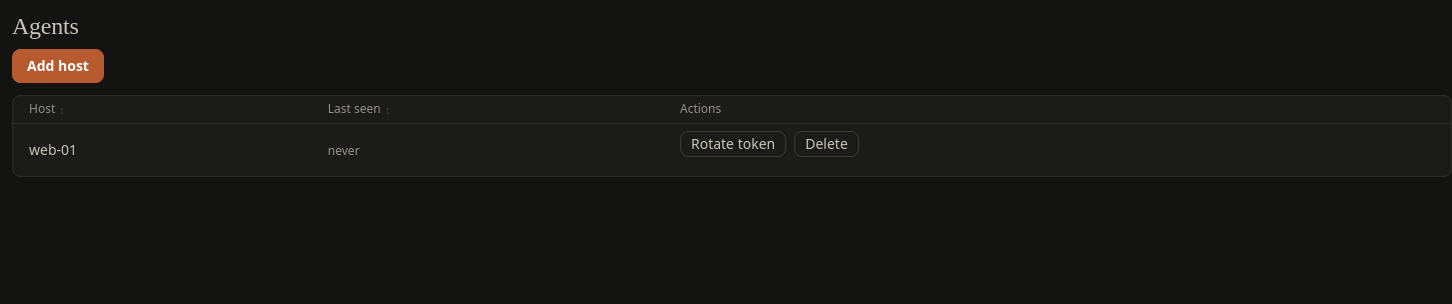
Test: HostAdminPage › requires a second click to delete, and never deletes on the first
Click the button "Delete" at (826,144), box [794,131,859,157]
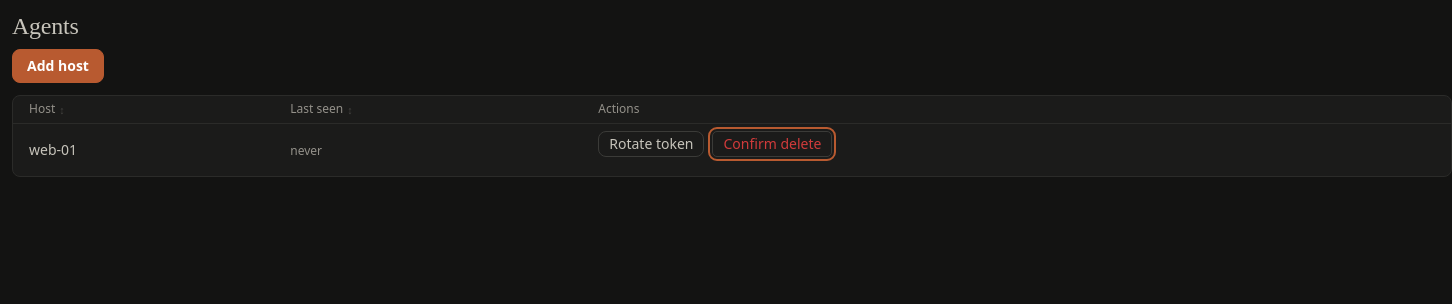
Click the button "Confirm delete" at (772,144), box [712,131,832,157]
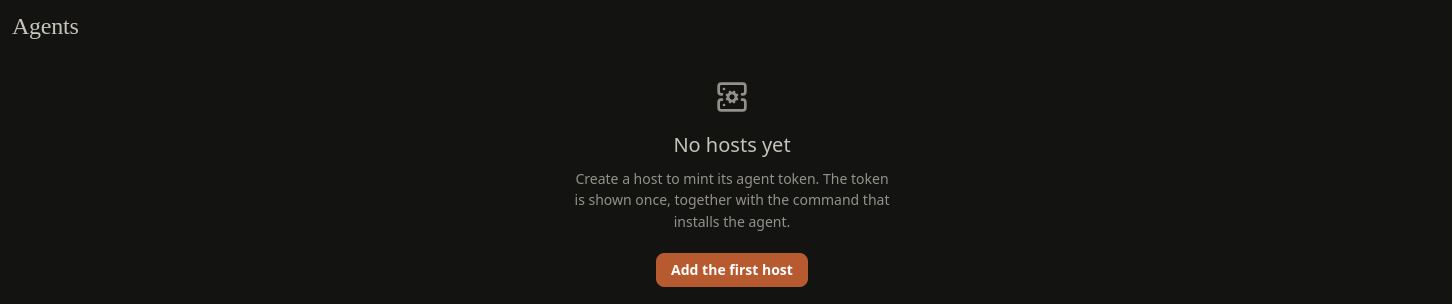
Check: the heading "No hosts yet" is shown, box [673,129,791,160]
